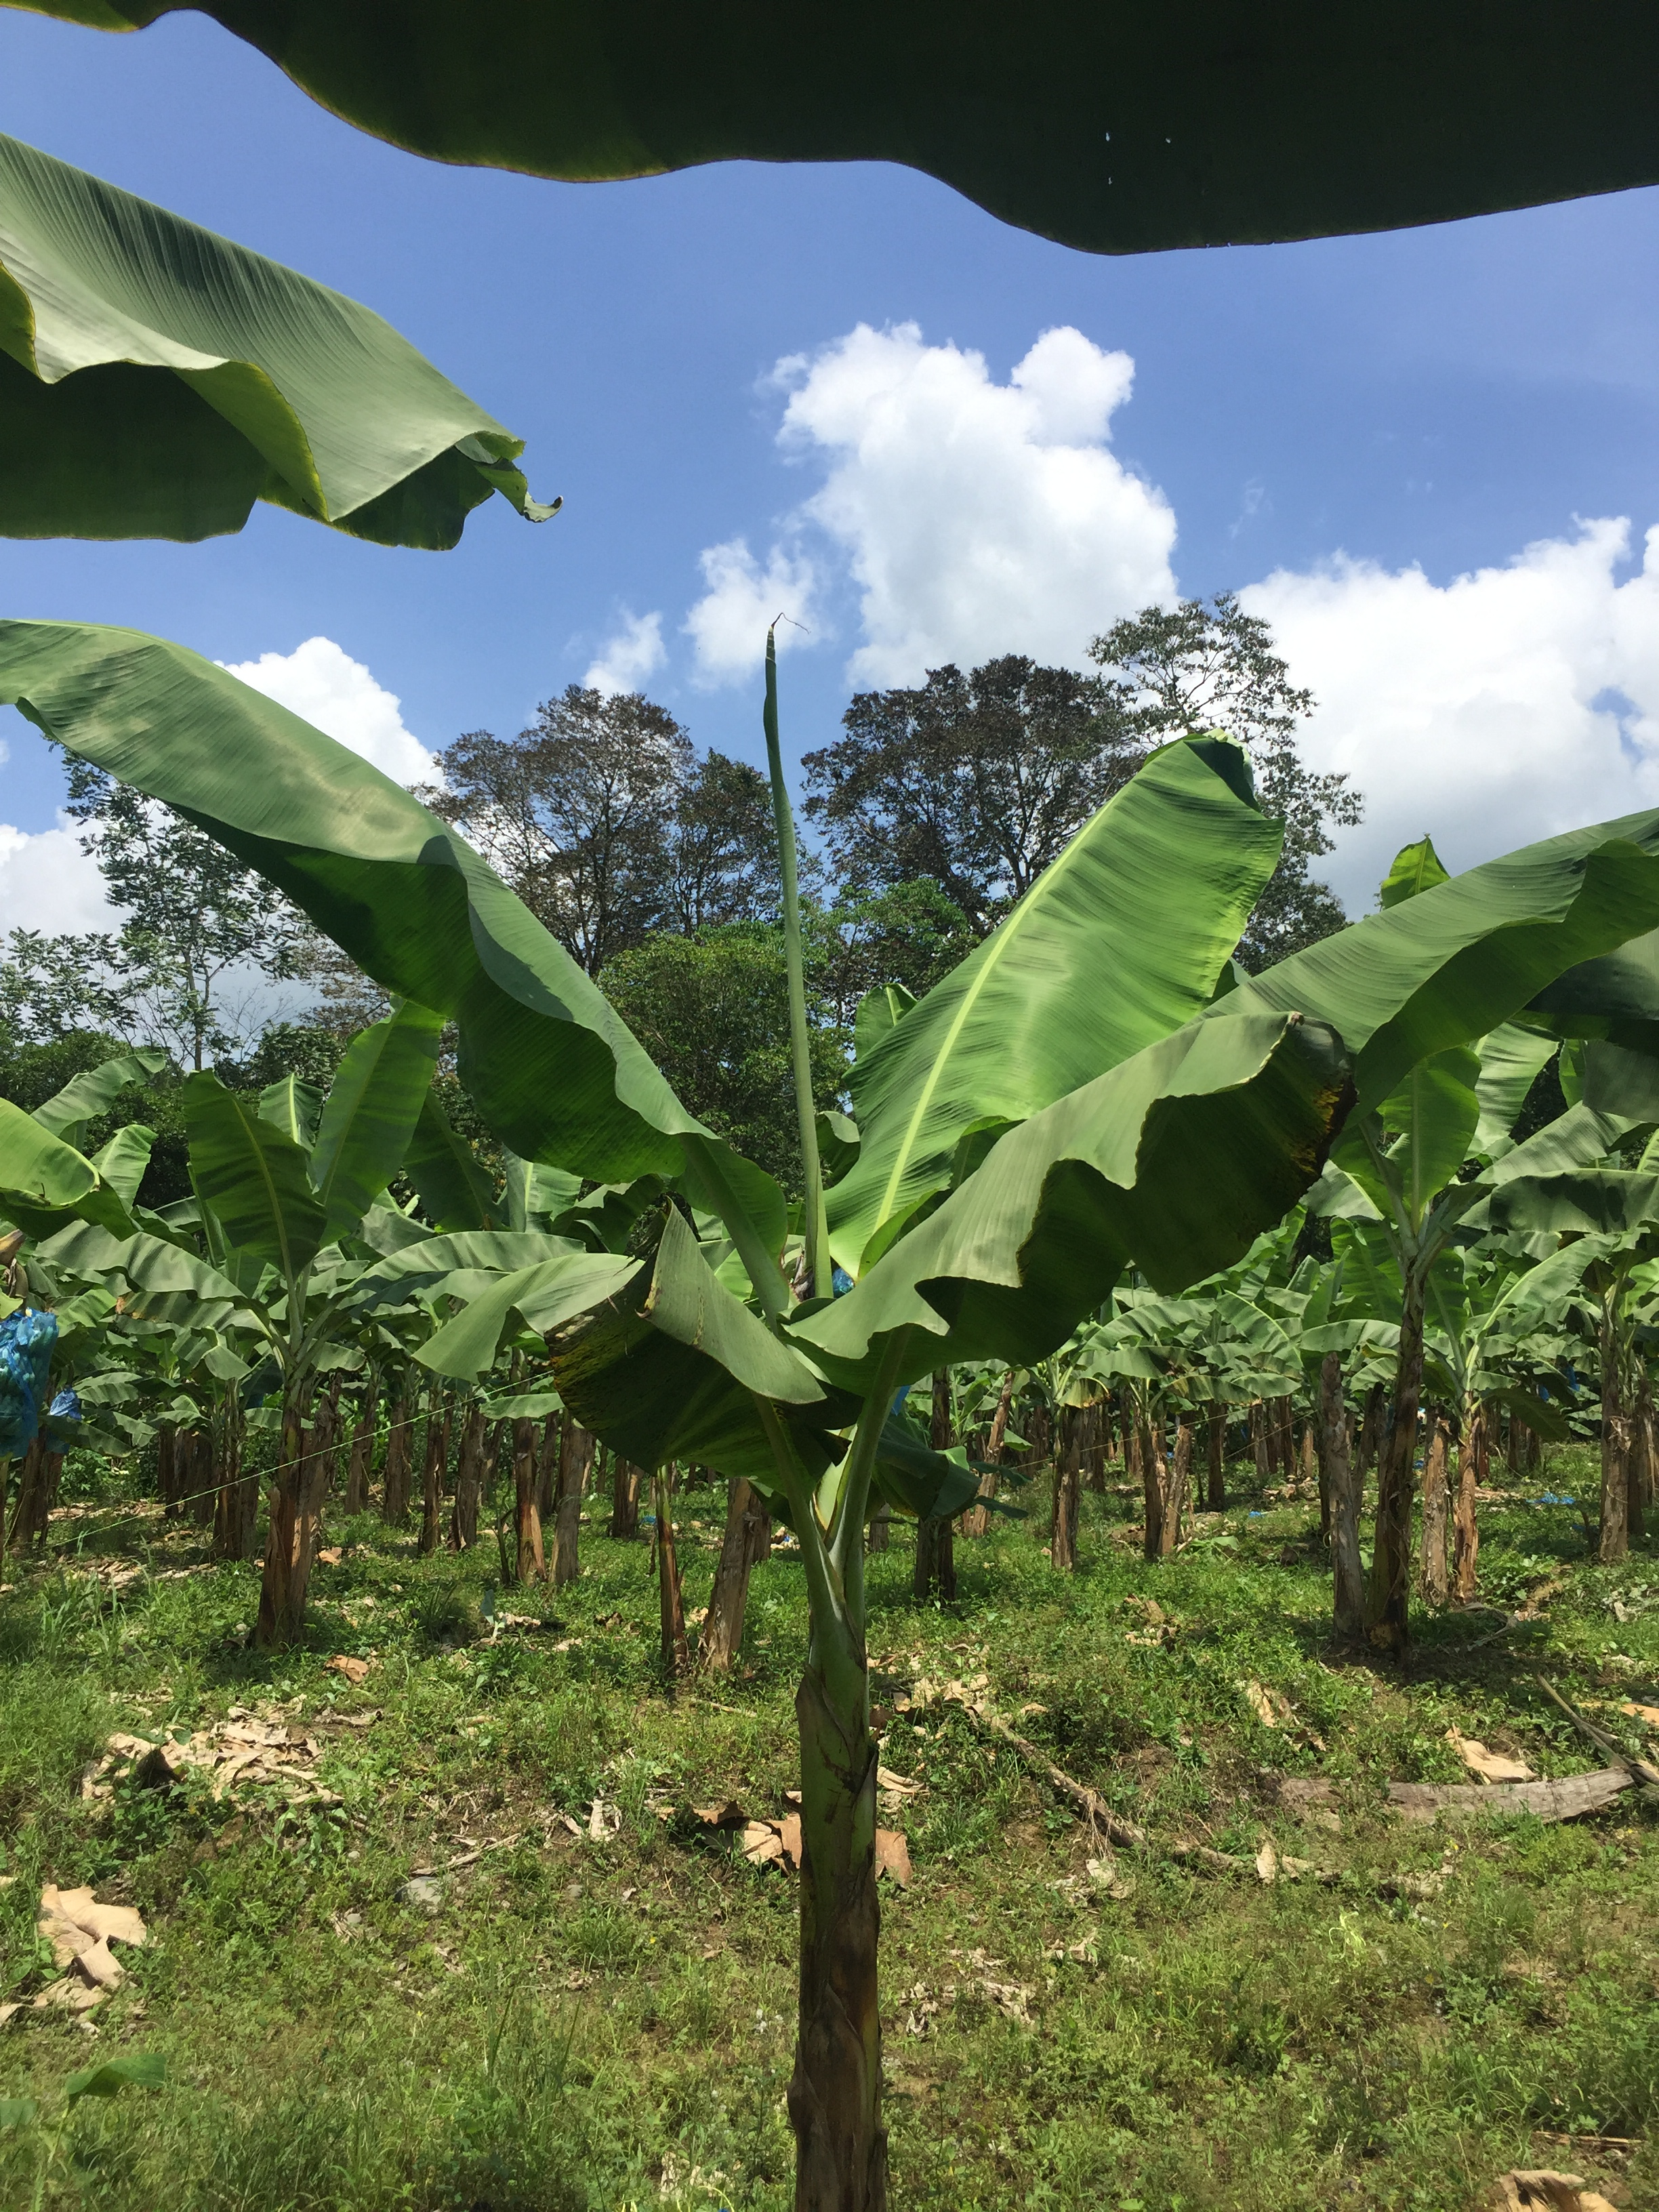candleleafs: (763, 615, 833, 1299)
